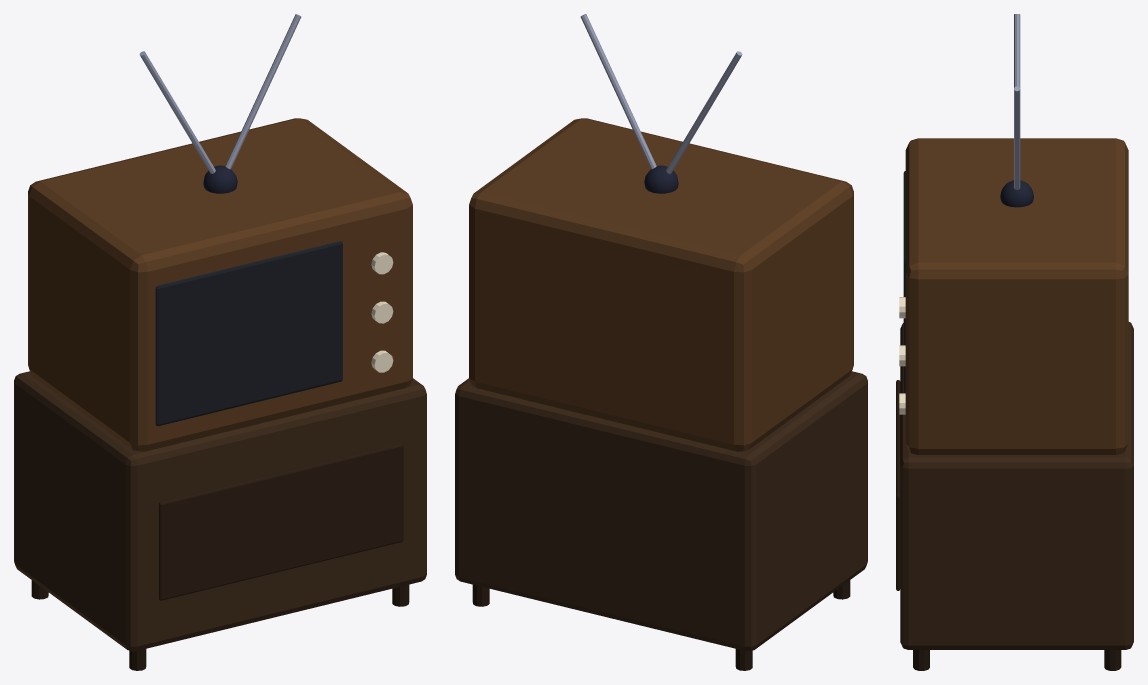
3 views of the same model, side by side, from view 1: azimuth 30°, elevation 25°; view 2: azimuth 150°, elevation 25°; view 3: azimuth 270°, elevation 25° (orthographic). The views are drawn at different scales.
Visible parts, largest first — view 1: tube, cabinet, screen, grille, ant1, ant-1, antbase; view 2: tube, cabinet, ant1, ant-1, antbase; view 3: tube, cabinet, grille, ant1, antbase, screen, ant-1, leg11.
Boxes of the visible parts, x1,y1,x2,y2 form: tube: (28, 118, 412, 451); cabinet: (14, 371, 426, 651); screen: (155, 241, 342, 426); grille: (159, 443, 403, 600); ant1: (225, 14, 301, 169); ant-1: (139, 51, 215, 173); antbase: (203, 165, 237, 193); tube: (469, 118, 853, 451); cabinet: (455, 371, 867, 651); ant1: (580, 14, 656, 169); ant-1: (666, 51, 742, 173); antbase: (644, 165, 678, 193); tube: (905, 138, 1128, 454); cabinet: (900, 322, 1133, 649); grille: (896, 380, 900, 590); ant1: (1014, 86, 1020, 189); antbase: (1000, 180, 1033, 207); screen: (903, 171, 905, 393); ant-1: (1014, 14, 1020, 88); leg11: (1104, 650, 1121, 670).
Bounding box in the file's own units: 1.6 × 2.88 × 1.12.
